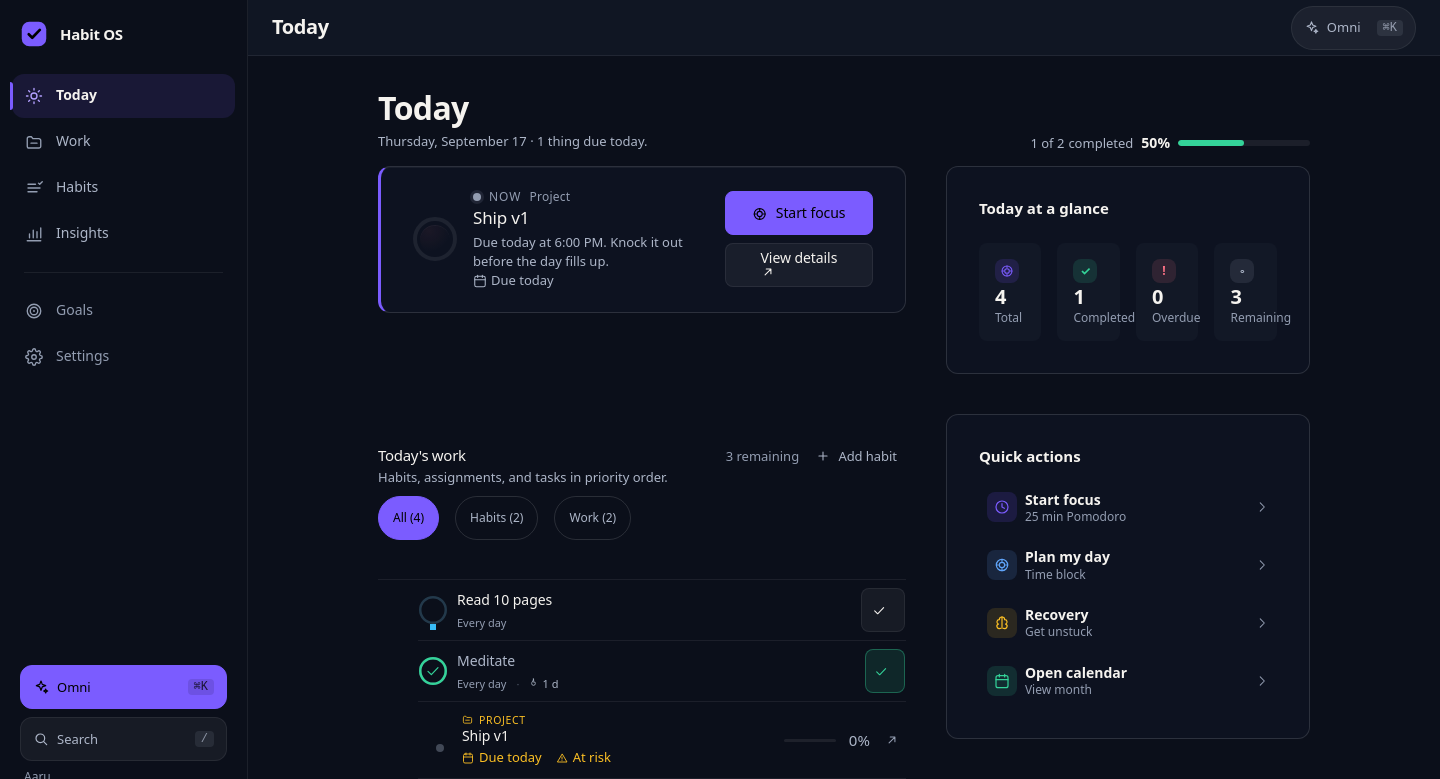
§R5.1 PlanningPanel lifecycle on Today › clicking Plan mounts PlanningPanel as a dialog
This screenshot has width=1440, height=779.
Expected: the heading "Today" is shown, x1=378 y1=86 x2=469 y2=129
Step 1. Click the button "Plan my day Time block" → point(1067, 557), box x1=979 y1=540 x2=1277 y2=590
(page scrolled)
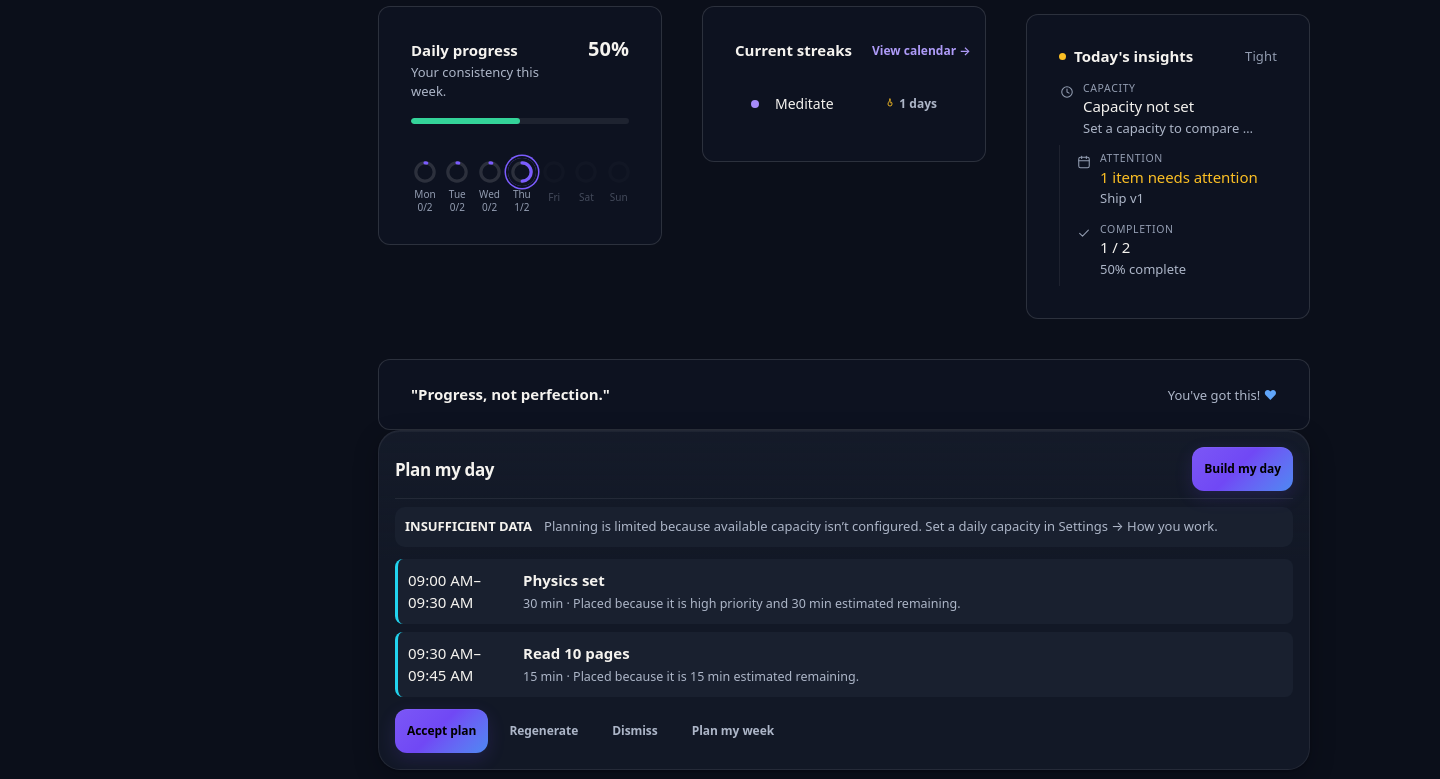
Expected: the dialog is shown, x1=378 y1=430 x2=1310 y2=770
